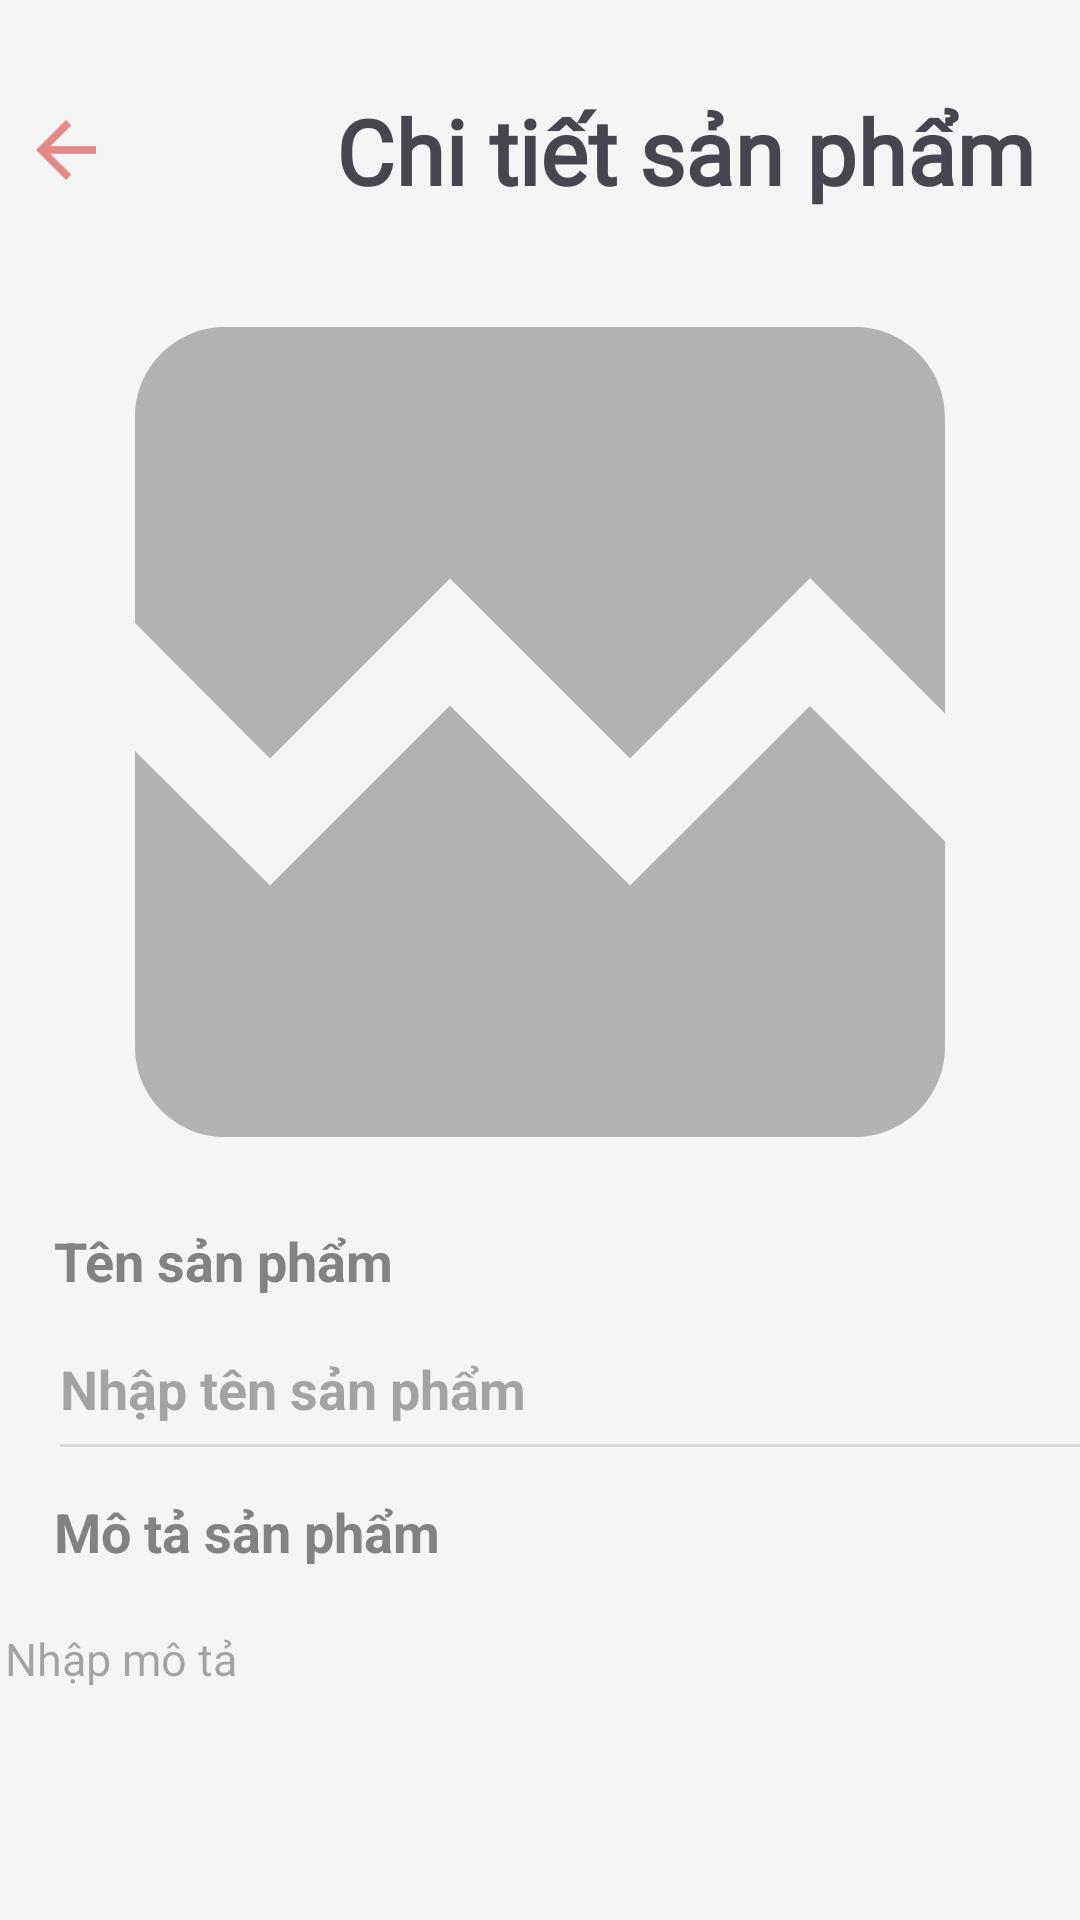

Where icons sit on this 1080x1920 app screen, as {"left": x1, "top": y1, "right": x2, "bottom": y2}:
arrow back: {"left": 36, "top": 120, "right": 96, "bottom": 180}
